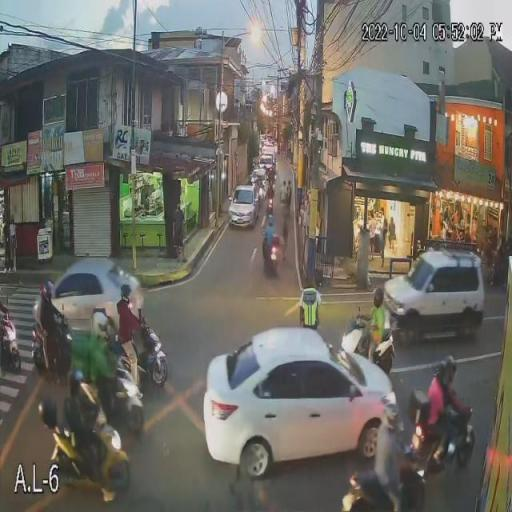helmet: (384, 406, 399, 434), (93, 310, 108, 338), (68, 373, 86, 395), (41, 280, 55, 300), (446, 356, 456, 382), (436, 362, 446, 385), (120, 285, 132, 304), (373, 288, 384, 307), (268, 215, 274, 224), (268, 182, 274, 188)
motorcycle: (38, 399, 133, 490), (73, 338, 144, 431), (412, 390, 478, 464), (344, 471, 430, 512), (124, 326, 168, 384), (345, 320, 393, 370), (31, 324, 73, 374), (0, 314, 23, 372), (261, 232, 284, 269), (264, 197, 276, 213)
rider: (64, 396, 96, 482), (376, 432, 410, 510), (38, 300, 61, 379), (90, 338, 119, 400), (444, 385, 464, 460), (426, 384, 444, 462), (370, 308, 384, 362), (266, 226, 274, 262), (269, 188, 273, 200)
